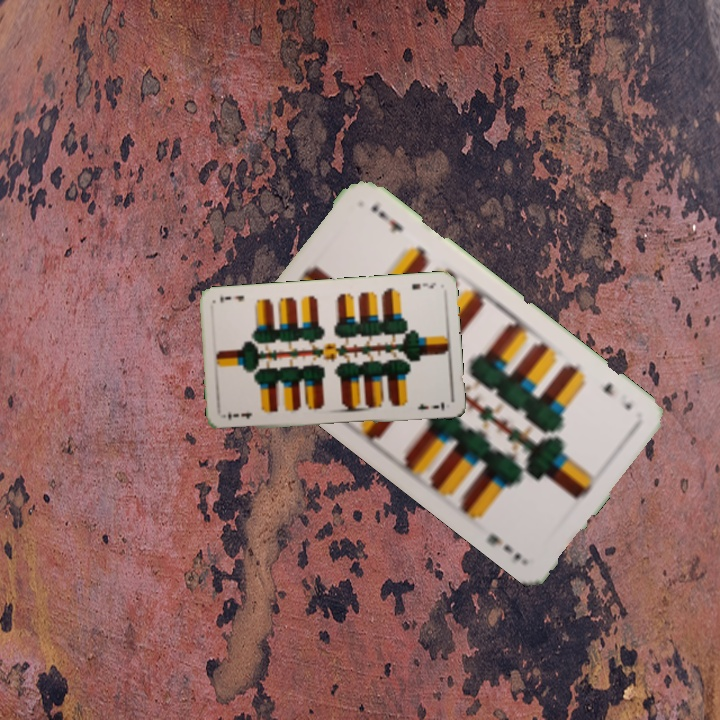E7: (599, 378, 635, 413), (224, 408, 254, 423), (407, 278, 439, 292)
